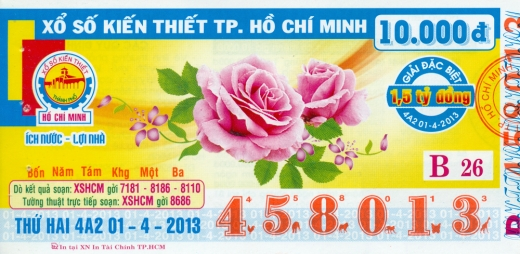serial_zone: (210, 189, 500, 242)
